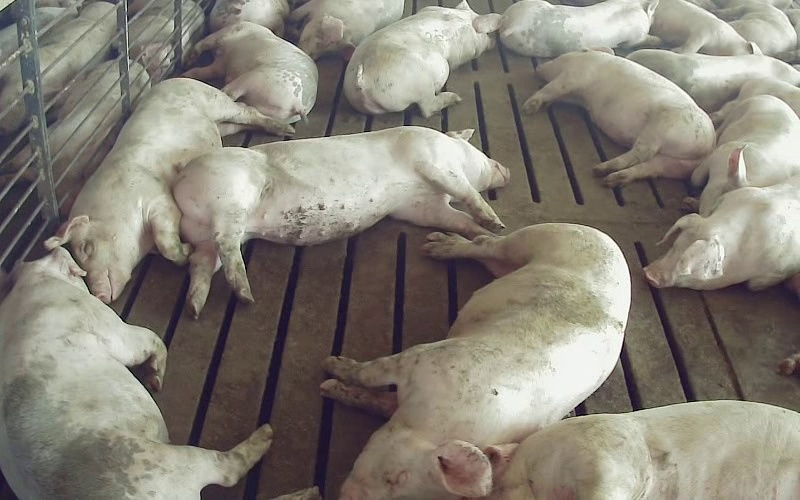pig: (0, 248, 272, 499), (173, 126, 508, 314), (45, 78, 293, 302), (487, 400, 799, 499), (523, 47, 715, 186), (344, 0, 501, 117), (644, 179, 799, 289), (691, 95, 799, 215), (627, 49, 799, 112), (499, 0, 659, 56)
